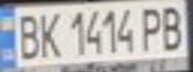1: (100, 4, 121, 54), (63, 7, 84, 56)
4: (115, 3, 139, 53), (81, 6, 103, 55)
B: (157, 1, 190, 52), (12, 9, 42, 61)
K: (33, 8, 63, 60)
P: (136, 2, 166, 52)
